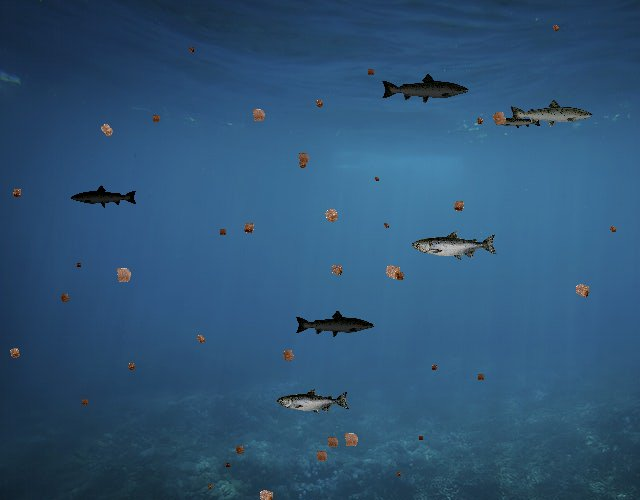Fish: (380, 73, 470, 105), (508, 98, 594, 129), (412, 230, 498, 261), (295, 310, 376, 339), (277, 389, 350, 415), (70, 184, 138, 209), (495, 114, 542, 131)
Pellet: (108, 260, 138, 290), (245, 101, 272, 128), (3, 342, 26, 364), (238, 217, 260, 239), (391, 267, 408, 285), (363, 65, 378, 79), (428, 361, 441, 374), (185, 44, 198, 57), (204, 482, 214, 492)
